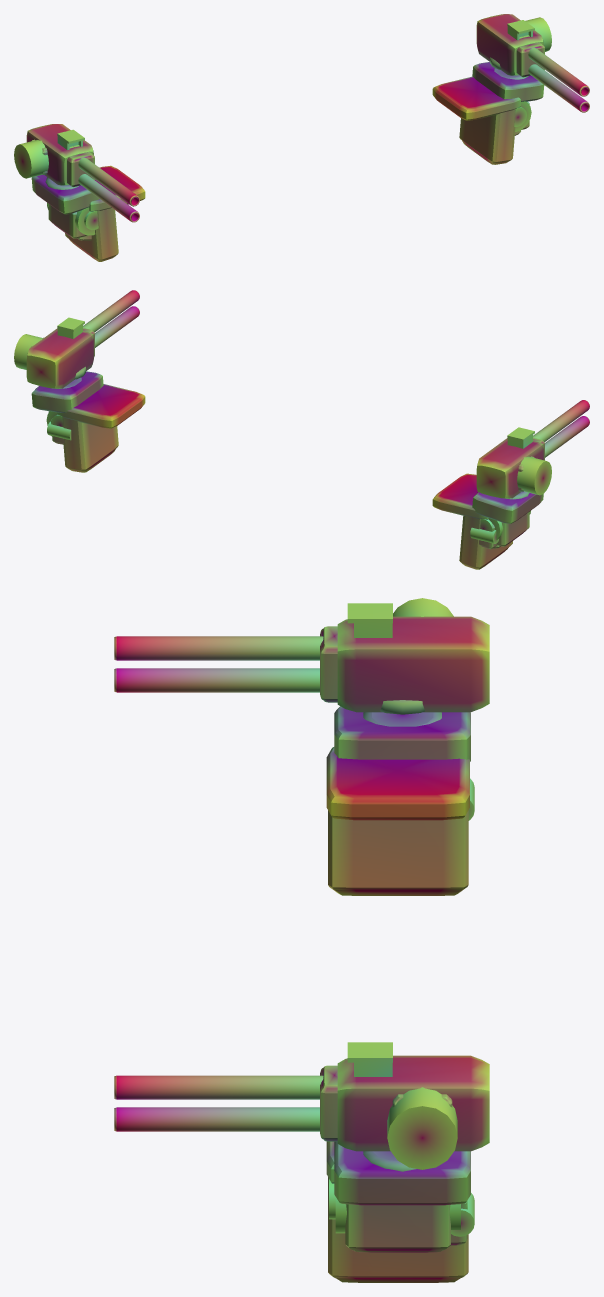
File: llm_gen_shoulder_pods_075_0d481a.glb
3 renders of one model, top to bottom at view 1: azimuth 30°, elevation 25°; view 2: azimuth 150°, elevation 25°; view 3: azimuth 270°, elevation 25°, orthographic. The views are drawn at different scales.
Visible parts, largest first — view 1: adapter_shoulder_yoke_r, adapter_shoulder_yoke_l, turret_breech_2_cobalt_anodized_r, turret_breech_2_cobalt_anodized_l, turret_adapter_base_0_adapter_dark_r, turret_adapter_base_0_adapter_dark_l, ciws_drum_mag_5_era_block_l, ciws_barrel_top_6_barrel_metal_l, ciws_barrel_top_6_barrel_metal_r, ciws_barrel_bot_7_barrel_metal_r, ciws_barrel_bot_7_barrel_metal_l, adapter_sub_ciws_shroud_dark_3_adapter_dark_r (+4 smaller); view 2: adapter_shoulder_yoke_r, adapter_shoulder_yoke_l, turret_breech_2_cobalt_anodized_r, turret_breech_2_cobalt_anodized_l, turret_adapter_base_0_adapter_dark_r, turret_adapter_base_0_adapter_dark_l, ciws_drum_mag_5_era_block_l, ciws_barrel_top_6_barrel_metal_r, ciws_barrel_top_6_barrel_metal_l, ciws_barrel_bot_7_barrel_metal_l, ciws_barrel_bot_7_barrel_metal_r, ciws_drum_mag_5_era_block_r (+2 smaller); view 3: adapter_shoulder_yoke_l, turret_breech_2_cobalt_anodized_l, adapter_shoulder_yoke_r, turret_breech_2_cobalt_anodized_r, turret_adapter_base_0_adapter_dark_r, turret_adapter_base_0_adapter_dark_l, ciws_barrel_top_6_barrel_metal_l, ciws_barrel_top_6_barrel_metal_r, ciws_barrel_bot_7_barrel_metal_r, ciws_barrel_bot_7_barrel_metal_l, ciws_drum_mag_5_era_block_r, servo_1_servo_accent_l (+4 smaller).
Part boxes in pixels (bbox=[...]): adapter_shoulder_yoke_r: bbox=[432, 76, 531, 164]; adapter_shoulder_yoke_l: bbox=[47, 165, 145, 261]; turret_breech_2_cobalt_anodized_r: bbox=[476, 14, 543, 75]; turret_breech_2_cobalt_anodized_l: bbox=[26, 124, 93, 185]; turret_adapter_base_0_adapter_dark_r: bbox=[472, 62, 544, 101]; turret_adapter_base_0_adapter_dark_l: bbox=[31, 174, 99, 214]; ciws_drum_mag_5_era_block_l: bbox=[14, 140, 48, 178]; ciws_barrel_top_6_barrel_metal_l: bbox=[78, 157, 139, 206]; ciws_barrel_top_6_barrel_metal_r: bbox=[528, 47, 589, 96]; ciws_barrel_bot_7_barrel_metal_r: bbox=[528, 64, 589, 112]; ciws_barrel_bot_7_barrel_metal_l: bbox=[78, 174, 139, 222]; adapter_sub_ciws_shroud_dark_3_adapter_dark_r: bbox=[516, 42, 544, 77]; adapter_shoulder_yoke_r: bbox=[46, 384, 145, 472]; adapter_shoulder_yoke_l: bbox=[432, 473, 530, 569]; turret_breech_2_cobalt_anodized_r: bbox=[26, 328, 93, 388]; turret_breech_2_cobalt_anodized_l: bbox=[476, 438, 543, 498]; turret_adapter_base_0_adapter_dark_r: bbox=[31, 371, 103, 412]; turret_adapter_base_0_adapter_dark_l: bbox=[472, 492, 543, 523]; ciws_drum_mag_5_era_block_l: bbox=[517, 456, 551, 495]; ciws_barrel_top_6_barrel_metal_r: bbox=[83, 290, 139, 331]; ciws_barrel_top_6_barrel_metal_l: bbox=[533, 400, 589, 441]; ciws_barrel_bot_7_barrel_metal_l: bbox=[545, 416, 589, 457]; ciws_barrel_bot_7_barrel_metal_r: bbox=[95, 306, 139, 347]; ciws_drum_mag_5_era_block_r: bbox=[14, 334, 43, 369]; adapter_shoulder_yoke_l: bbox=[326, 747, 469, 895]; turret_breech_2_cobalt_anodized_l: bbox=[337, 616, 489, 712]; adapter_shoulder_yoke_r: bbox=[326, 1141, 468, 1282]; turret_breech_2_cobalt_anodized_r: bbox=[337, 1055, 489, 1151]; turret_adapter_base_0_adapter_dark_r: bbox=[334, 1141, 470, 1205]; turret_adapter_base_0_adapter_dark_l: bbox=[334, 706, 470, 761]; ciws_barrel_top_6_barrel_metal_l: bbox=[114, 636, 323, 660]; ciws_barrel_top_6_barrel_metal_r: bbox=[114, 1075, 323, 1099]; ciws_barrel_bot_7_barrel_metal_r: bbox=[114, 1107, 319, 1131]; ciws_barrel_bot_7_barrel_metal_l: bbox=[114, 668, 319, 692]; ciws_drum_mag_5_era_block_r: bbox=[387, 1087, 457, 1169]; servo_1_servo_accent_l: bbox=[363, 700, 441, 726].
Bounding box in the file's own units: 109 × 25.28 × 34.1.
